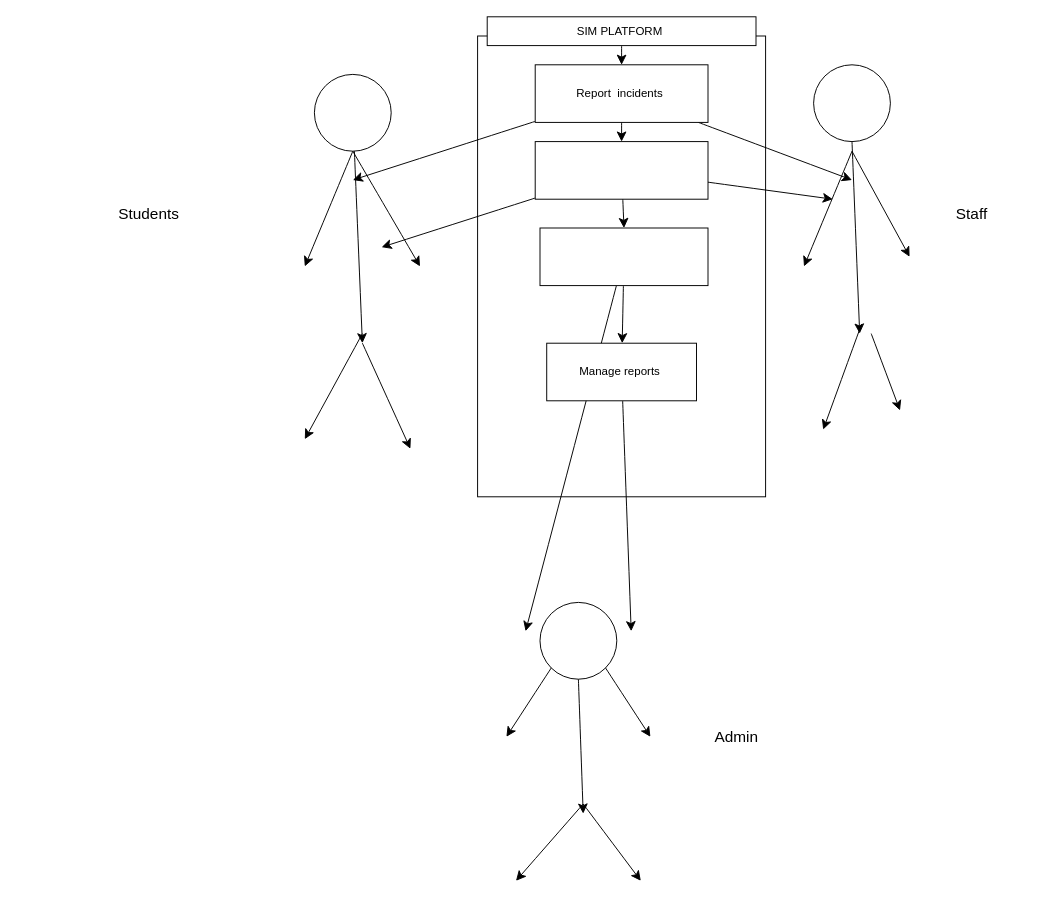
Some shapes in this 1041 by 898 pixel diagram are drawn without their labels. The shapes that lost their labels are listed below. From the top down, each one's centre as x and y in pixels, then its label:
At [621,170]: "View emergency contact".
At [623,256]: "View reports".
